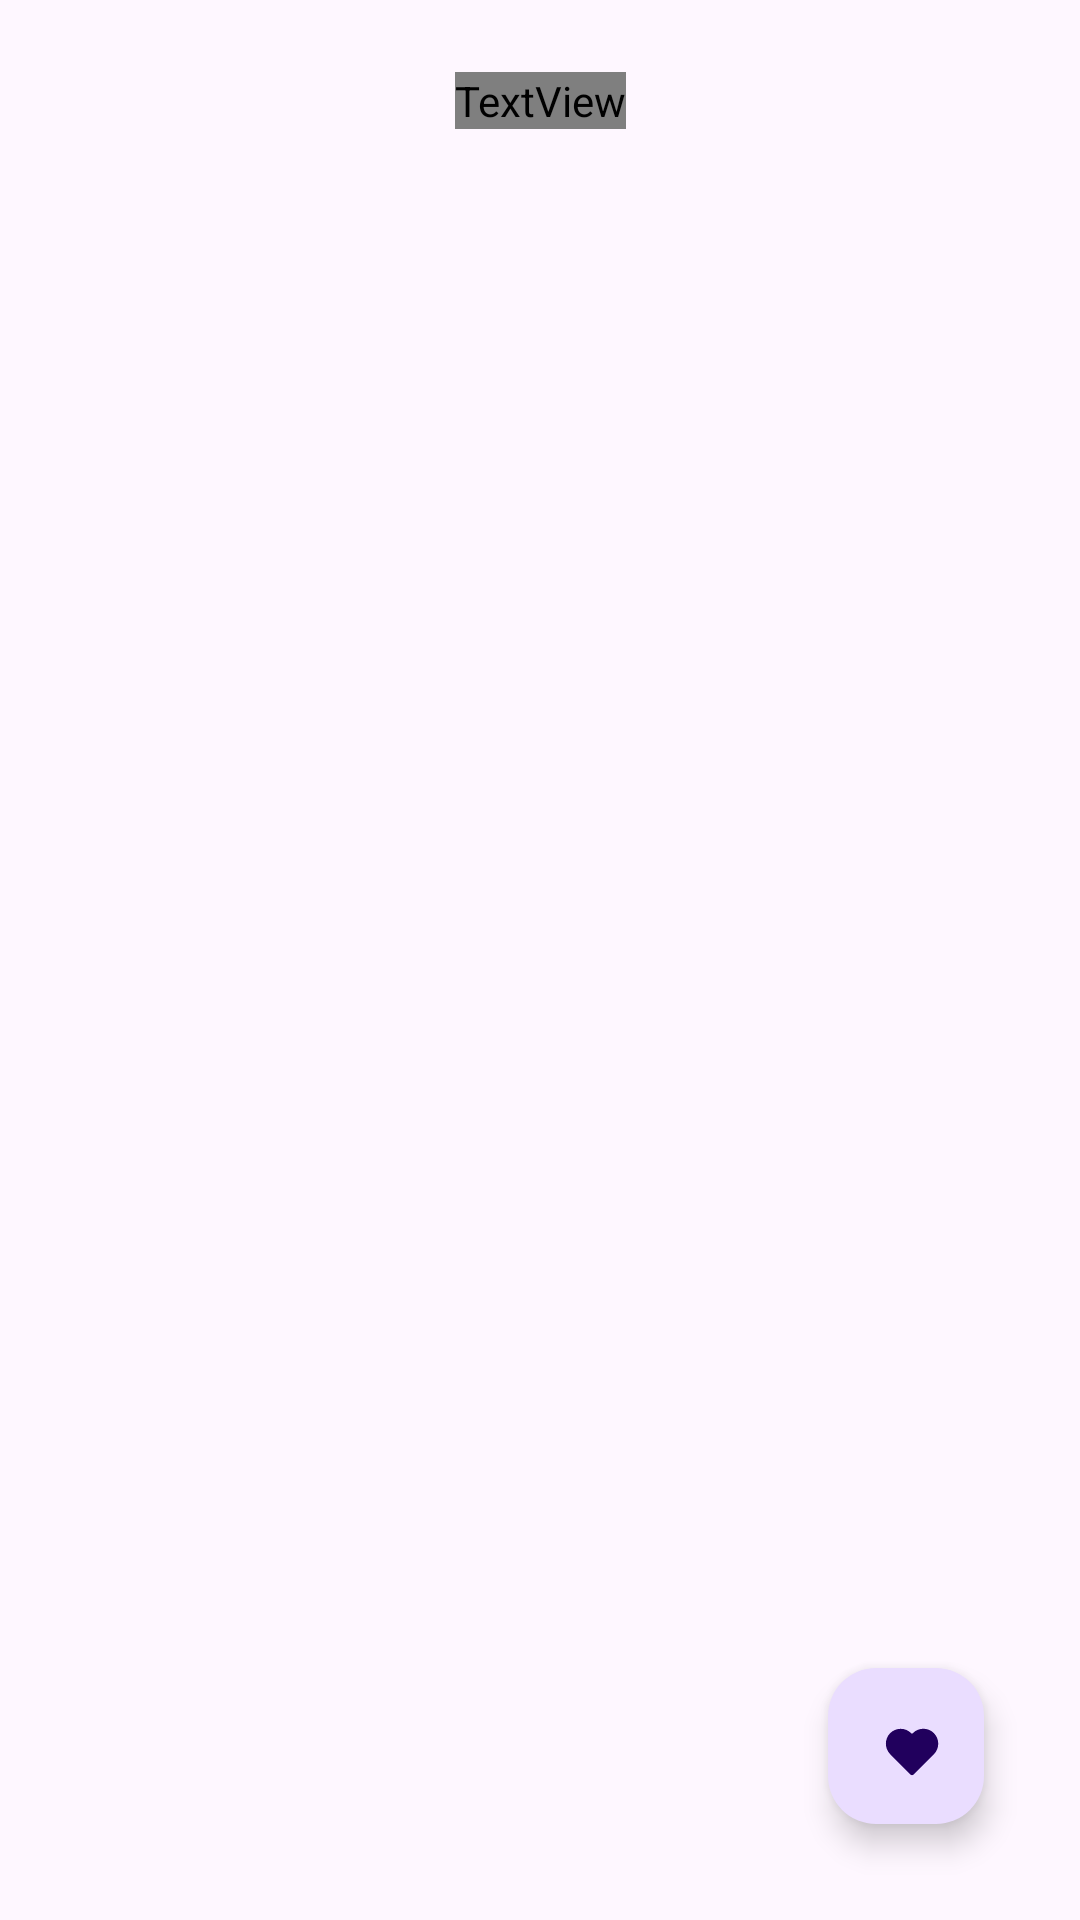

Icon click points for this 1080×1920 phone screenshot, format point (x, y):
heart: point (906, 1746)
